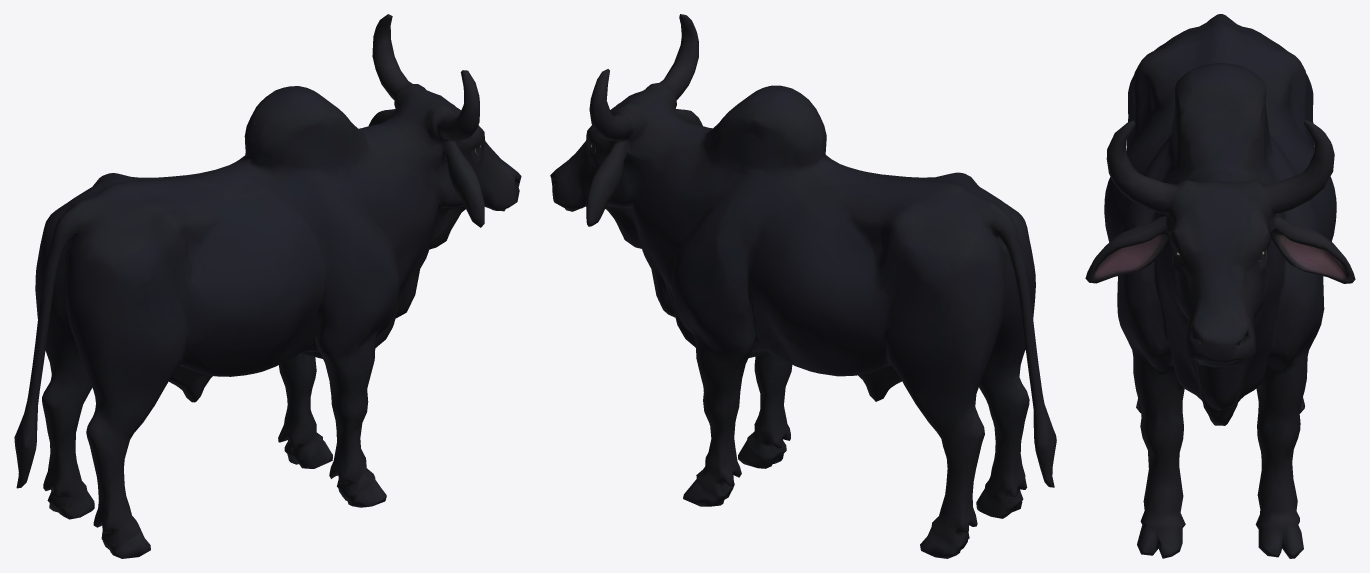
Rendered from cow_black.glb.
The picture shows the model from 3 angles, left to right: view 1: azimuth 30°, elevation 25°; view 2: azimuth 150°, elevation 25°; view 3: azimuth 270°, elevation 25°; orthographic projection. The views are drawn at different scales.
Parts seen in each view (by area): view 1: tripo_node_53131a38-e905-4e40-bb0a-6e7cbf419682; view 2: tripo_node_53131a38-e905-4e40-bb0a-6e7cbf419682; view 3: tripo_node_53131a38-e905-4e40-bb0a-6e7cbf419682.
Boxes of the visible parts, x1,y1,x2,y2 form: tripo_node_53131a38-e905-4e40-bb0a-6e7cbf419682: [14, 14, 521, 558]; tripo_node_53131a38-e905-4e40-bb0a-6e7cbf419682: [550, 14, 1056, 558]; tripo_node_53131a38-e905-4e40-bb0a-6e7cbf419682: [1085, 14, 1355, 558].
Bounding box in the file's own units: 1 × 0.801 × 0.4092.
Materials: 1 (1 with a texture image).
